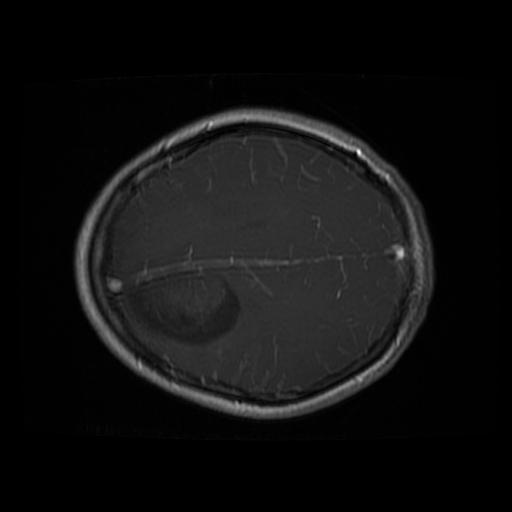glioma: (122, 260, 243, 346)
